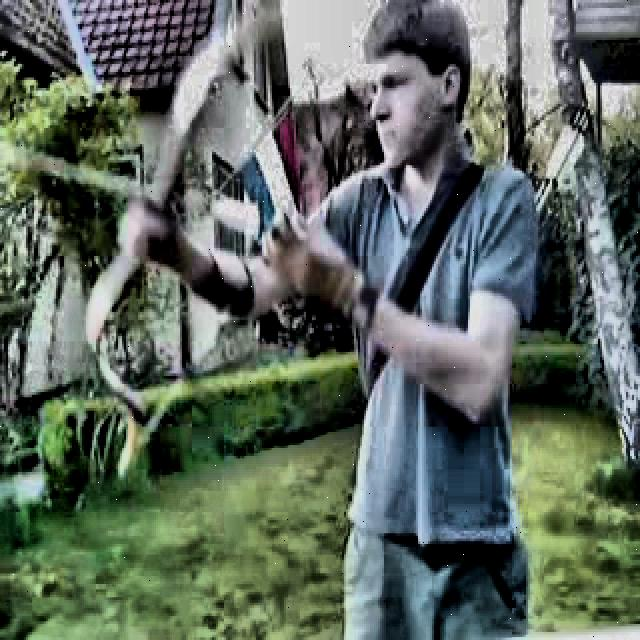P: (125, 5, 536, 632)
